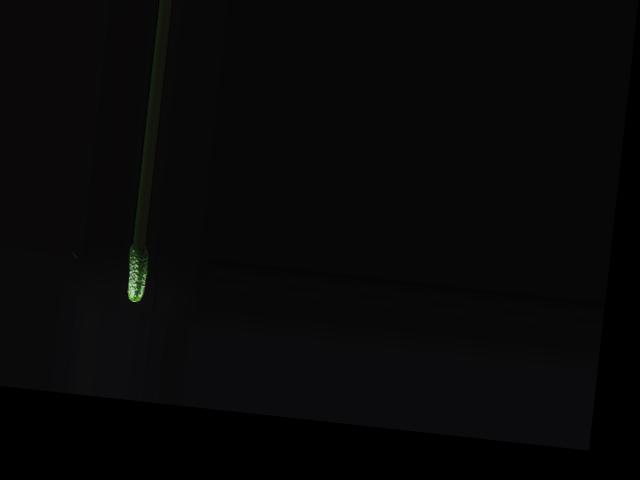cucumber: (123, 242, 150, 303)
